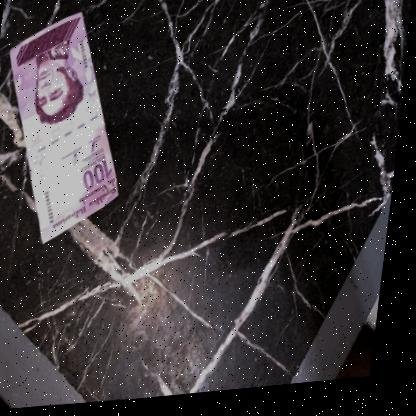one_hundred-front-vef: (0, 7, 142, 251)
